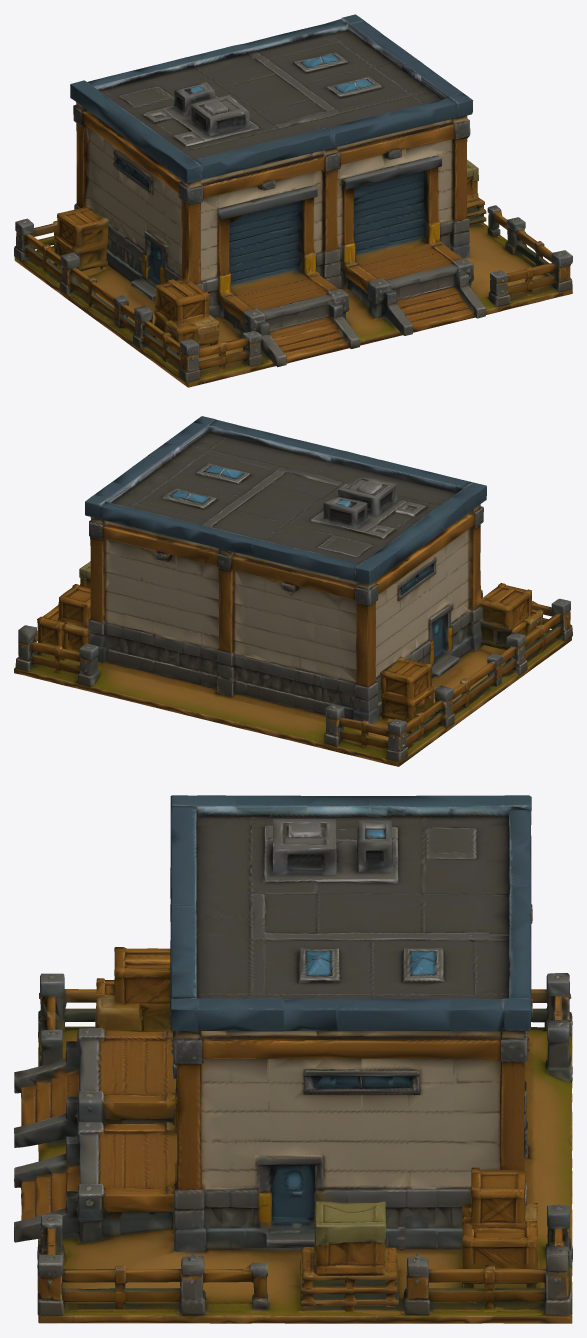
Rendered from warehouse.glb.
3 renders of one model, top to bottom at view 1: azimuth 30°, elevation 25°; view 2: azimuth 150°, elevation 25°; view 3: azimuth 270°, elevation 25°, orthographic. The views are drawn at different scales.
Parts seen in each view (by area): view 1: tripo_node_0b032ddf-f0ff-40e5-8fd9-fb19b6439baa; view 2: tripo_node_0b032ddf-f0ff-40e5-8fd9-fb19b6439baa; view 3: tripo_node_0b032ddf-f0ff-40e5-8fd9-fb19b6439baa.
Part boxes in pixels (left/top/right/bottom): tripo_node_0b032ddf-f0ff-40e5-8fd9-fb19b6439baa: left=14, top=14, right=572, bottom=387; tripo_node_0b032ddf-f0ff-40e5-8fd9-fb19b6439baa: left=14, top=416, right=572, bottom=766; tripo_node_0b032ddf-f0ff-40e5-8fd9-fb19b6439baa: left=14, top=795, right=572, bottom=1323.
Size of the model in its own units: 1 by 0.4698 by 0.8113.
1 material, 1 textured.
